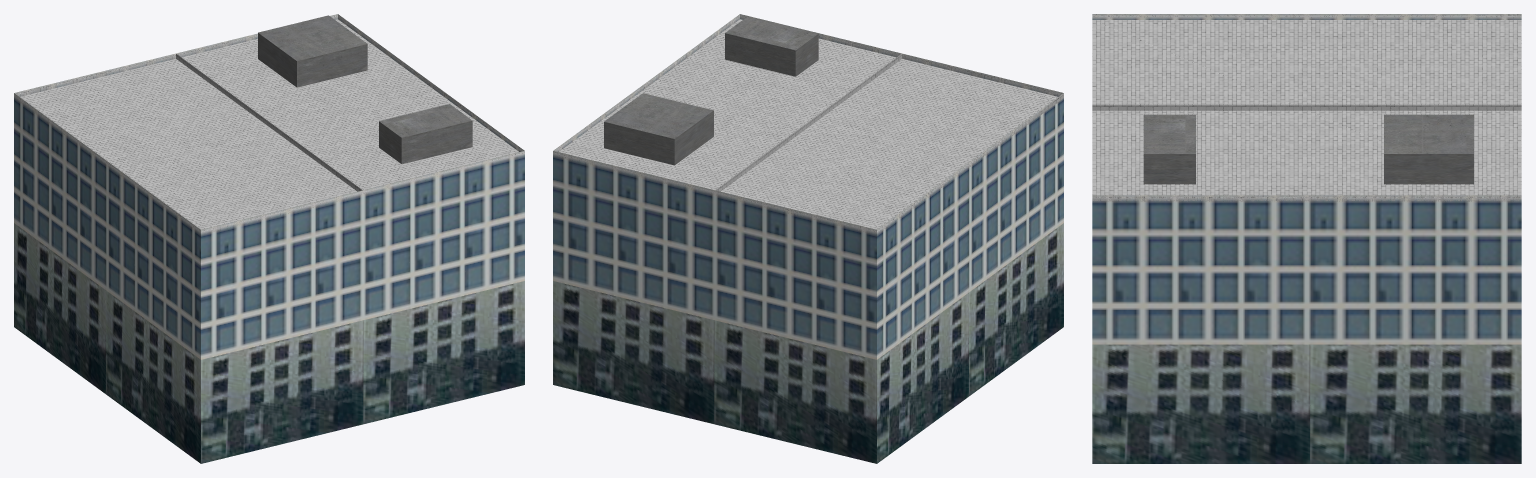
3 renders of one model, left to right at view 1: azimuth 30°, elevation 25°; view 2: azimuth 150°, elevation 25°; view 3: azimuth 270°, elevation 25°, orthographic. The views are drawn at different scales.
Parts seen in each view (by area): view 1: Object_2, Object_5, Object_4, Object_7, Object_6, Object_1, Object_8; view 2: Object_2, Object_5, Object_4, Object_7, Object_6, Object_1, Object_8; view 3: Object_2, Object_4, Object_5, Object_7, Object_6, Object_8, Object_1, Object_3.
Part boxes in pixels (x1,y1,x2,y2): Object_2: (14, 14, 524, 359); Object_5: (14, 223, 524, 463); Object_4: (20, 19, 519, 229); Object_7: (258, 15, 367, 87); Object_6: (379, 104, 472, 164); Object_1: (14, 14, 524, 233); Object_8: (176, 54, 362, 191); Object_2: (553, 14, 1063, 359); Object_5: (553, 223, 1063, 463); Object_4: (558, 19, 1057, 229); Object_7: (604, 93, 713, 165); Object_6: (725, 16, 818, 76); Object_1: (553, 14, 1063, 234); Object_8: (715, 54, 901, 191); Object_2: (1092, 14, 1521, 344); Object_4: (1092, 20, 1521, 195); Object_5: (1092, 344, 1521, 463); Object_7: (1384, 114, 1473, 184); Object_6: (1143, 114, 1195, 184); Object_8: (1092, 104, 1521, 110); Object_1: (1092, 14, 1521, 201); Object_3: (1092, 104, 1521, 110).
Size of the model in its own units: 1283 by 1283 by 966.
8 materials, 8 textured.
